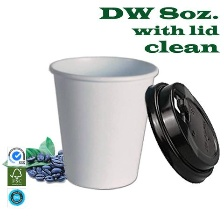paper_cup: (43, 49, 161, 194)
